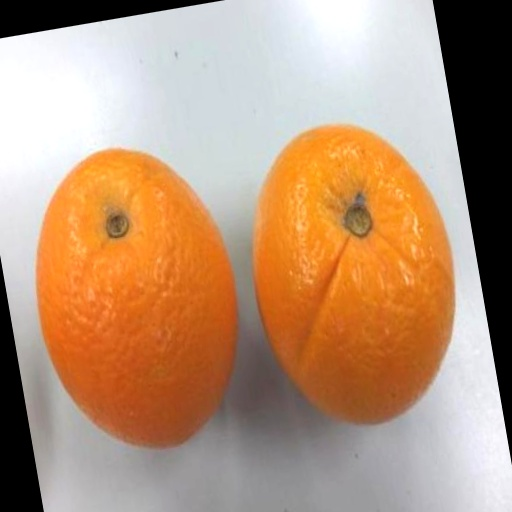fruit: (253, 126, 454, 423), (36, 150, 236, 446)
